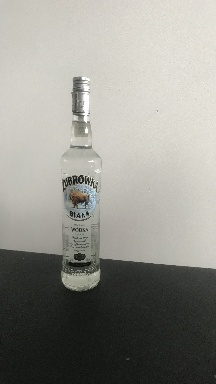butelka: (58, 72, 103, 293)
